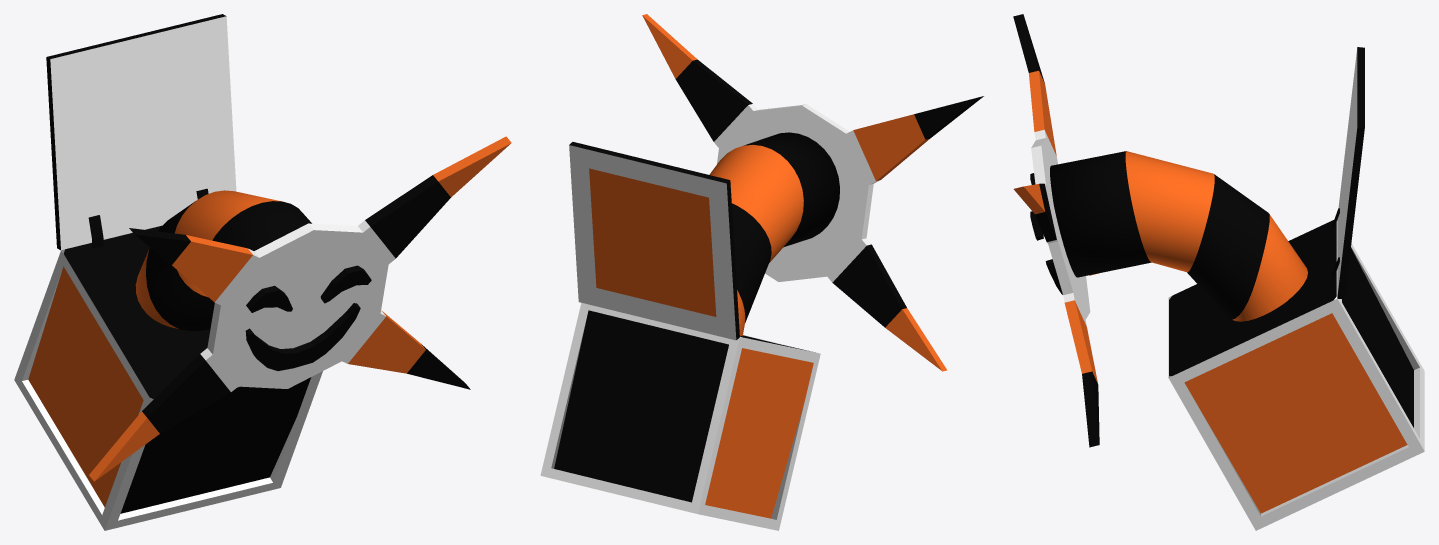
File: ToyBoxAnimation.fbx
3 views of the same model, side by side, from view 1: azimuth 30°, elevation 25°; view 2: azimuth 150°, elevation 25°; view 3: azimuth 270°, elevation 25° (orthographic). The views are drawn at different scales.
Visible parts, largest first — view 1: Circle.013; view 2: Circle.013; view 3: Circle.013.
Boxes of the visible parts, x1,y1,x2,y2 form: Circle.013: [14, 14, 511, 530]; Circle.013: [540, 14, 983, 530]; Circle.013: [1013, 14, 1424, 530].
Bounding box in the file's own units: 69.02 × 75.51 × 69.78.
